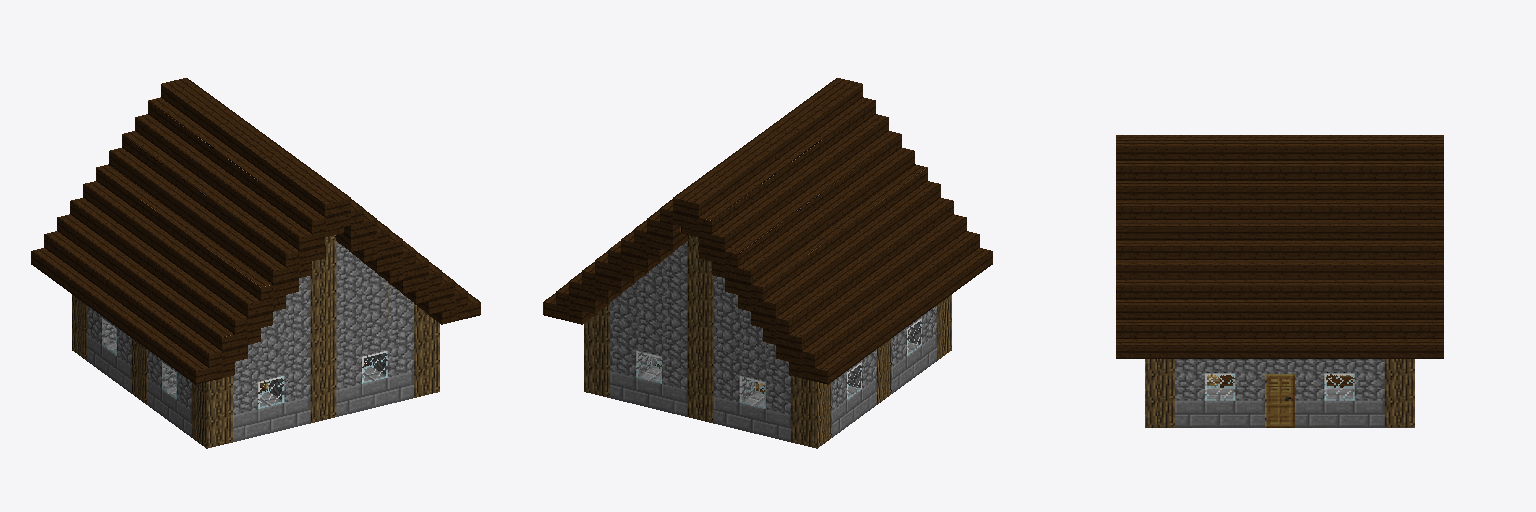
3 views of the same model, side by side, from view 1: azimuth 30°, elevation 25°; view 2: azimuth 150°, elevation 25°; view 3: azimuth 270°, elevation 25° (orthographic).
Visible parts, largest first — view 1: Cube_Cube.205; view 2: Cube_Cube.205; view 3: Cube_Cube.205.
Boxes of the visible parts, box(x1,y1,x2,y2) form: Cube_Cube.205: box(31, 78, 480, 448); Cube_Cube.205: box(543, 78, 992, 448); Cube_Cube.205: box(1116, 135, 1443, 427).
Size of the model in its own units: 22 by 17 by 22.
1 materials, 1 textured.